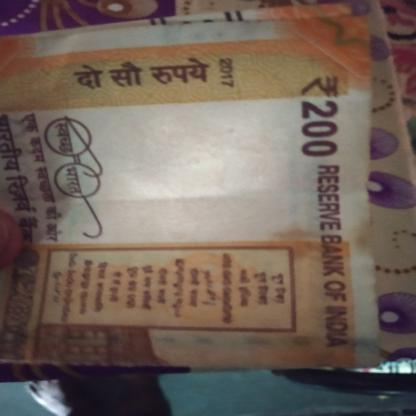New200Back: (0, 34, 366, 368)
